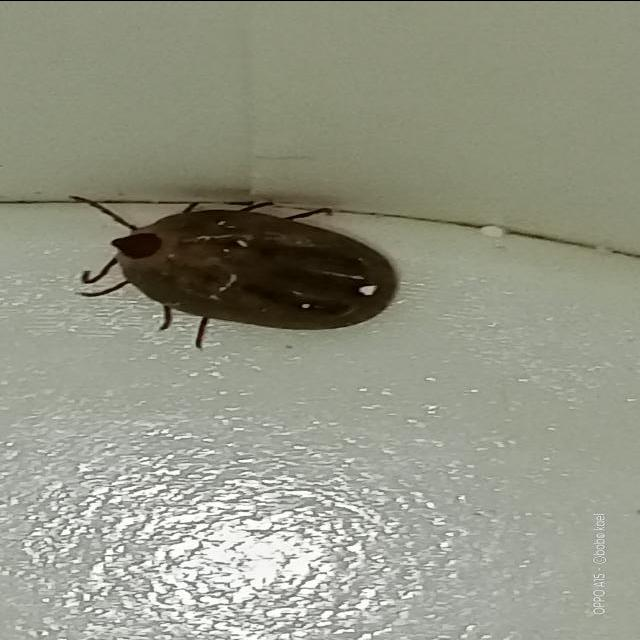Rhipicephalus Sanguineus-F-Fed: (69, 195, 400, 349)
